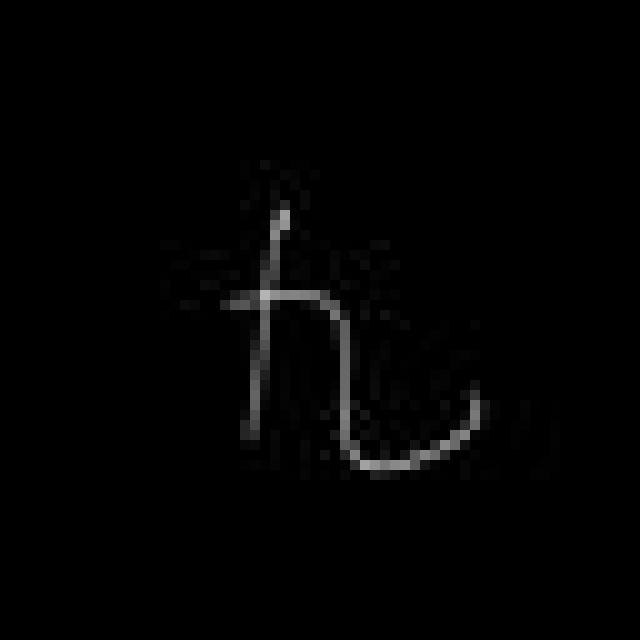9 -nine-: (214, 202, 495, 475)
